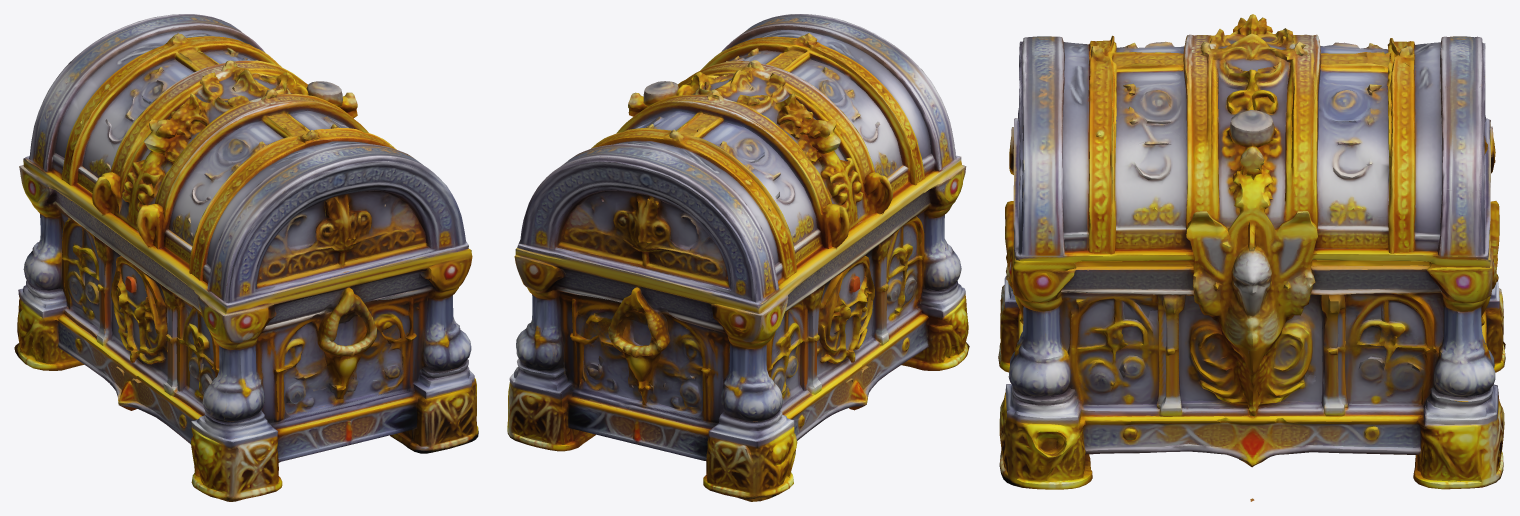
File: locked_chest.glb
3 renders of one model, left to right at view 1: azimuth 30°, elevation 25°; view 2: azimuth 150°, elevation 25°; view 3: azimuth 270°, elevation 25°, orthographic. The views are drawn at different scales.
Parts seen in each view (by area): view 1: world_1; view 2: world_1; view 3: world_1.
Boxes of the visible parts, x1,y1,x2,y2 form: world_1: (14,14,478,501); world_1: (507,14,969,501); world_1: (998,14,1505,501).
Size of the model in its own units: 0.8261 by 0.8251 by 0.9996.
Materials: 1 (1 with a texture image).
